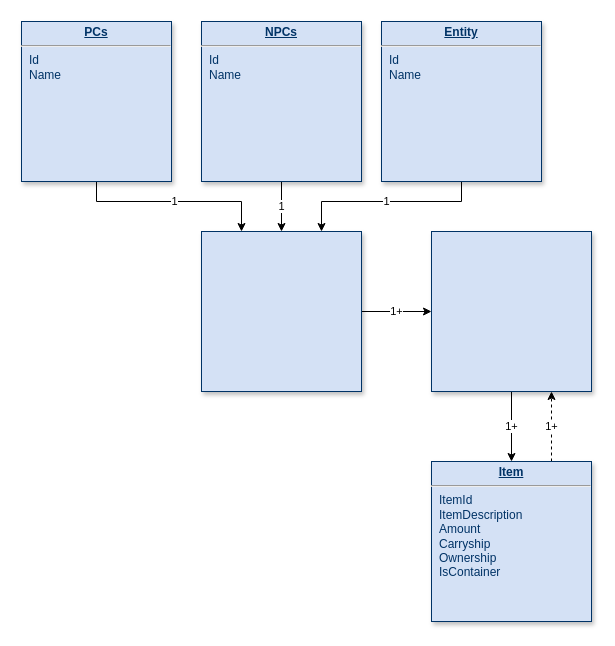
This 615x646 diagram has some shape labels left out. Here are the shapes that lost their labels. From the top down, the centre of each, then its label:
At (282,312): "Inventory (Top Level view. Each Entity able to carry Items has one Inventory)".
At (512,312): "Container Carryship Ownership".
